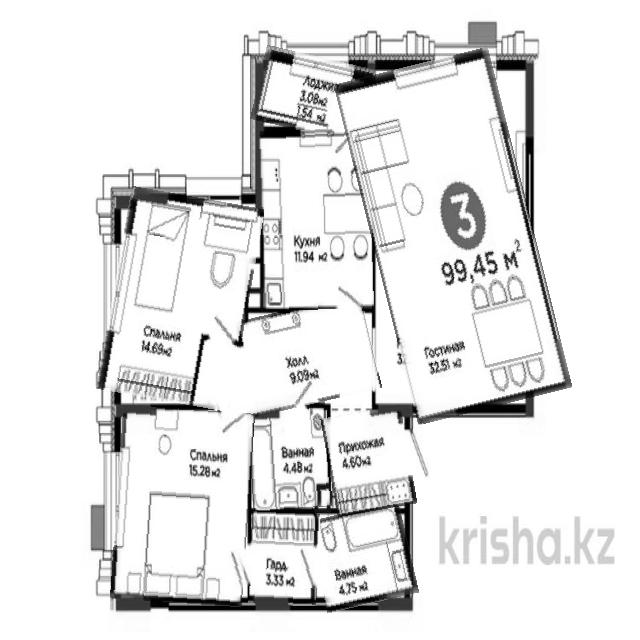balcony: (254, 51, 373, 138)
bathroom: (312, 505, 414, 609), (248, 403, 331, 510)
hallway: (204, 301, 378, 416), (324, 408, 413, 514)
kitchen: (260, 129, 373, 311)
living_room: (353, 53, 552, 418), (105, 191, 256, 407), (114, 407, 252, 605)
other: (249, 511, 319, 606)
